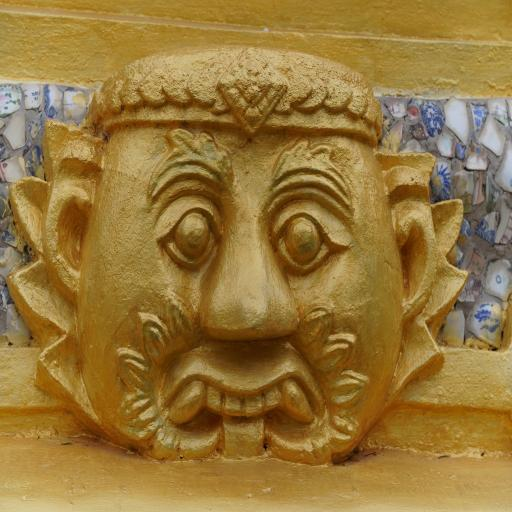than: (8, 24, 490, 472)
